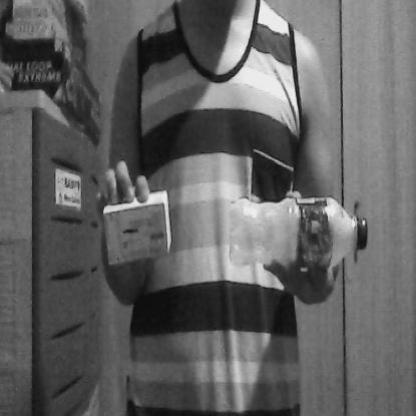Plastic Bottle: (218, 180, 374, 287)
